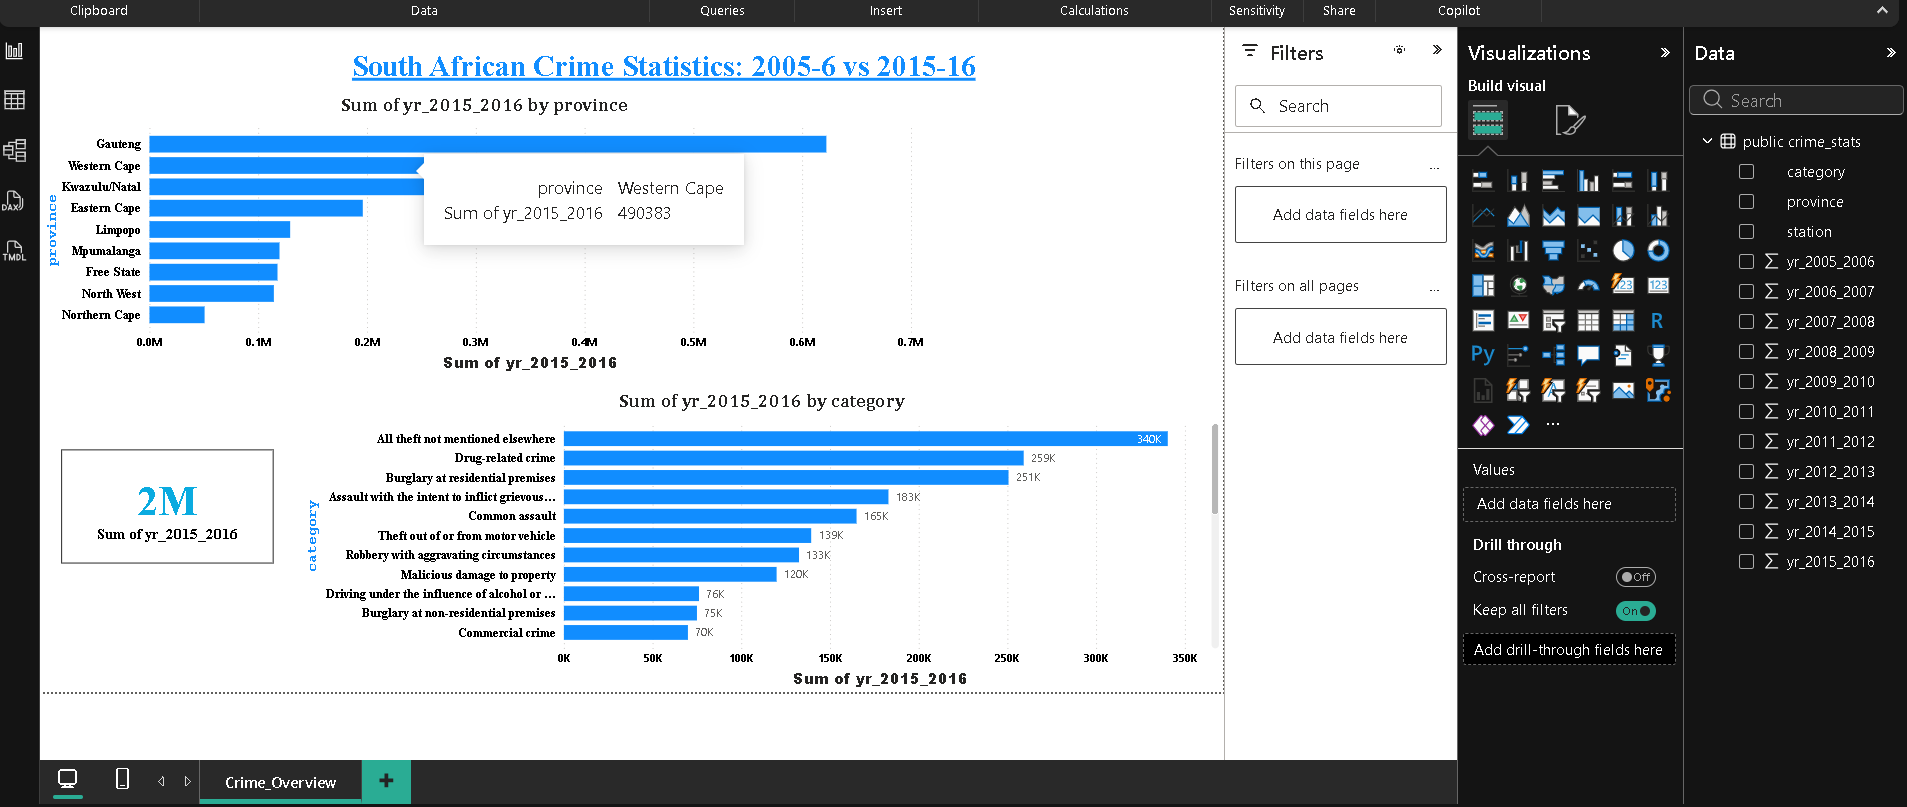

The dashboard page shown, as its layout file describes it:
{"tool":"powerbi","page":{"name":"Crime_Overview","canvas":[1280,720],"ordinal":0},"visuals":[{"type":"clusteredBarChart","fields":{"Category":["public crime_stats.province"],"Y":["Sum(public crime_stats.yr_2015_2016)"]},"box":[0,71.7,961.2,306.9],"z":0},{"type":"clusteredBarChart","fields":{"Category":["public crime_stats.category"],"Y":["Sum(public crime_stats.yr_2015_2016)"]},"box":[281.2,392.1,999.1,328.5],"z":1000},{"type":"card","fields":{"Values":["Sum(public crime_stats.yr_2015_2016)"]},"box":[23,457,229.8,123],"z":2000},{"type":"textbox","box":[320.4,18.9,708.4,52.7],"z":3000}]}

Visuals, with their boxes in screenshot pixels (x1, y1, x2, y2):
clusteredBarChart - public crime_stats.province x Sum(public crime_stats.yr_2015_2016): box(35, 25, 1100, 365)
clusteredBarChart - public crime_stats.category x Sum(public crime_stats.yr_2015_2016): box(347, 380, 1454, 744)
card - Sum(public crime_stats.yr_2015_2016): box(60, 452, 315, 588)
textbox: box(390, 0, 1175, 25)
